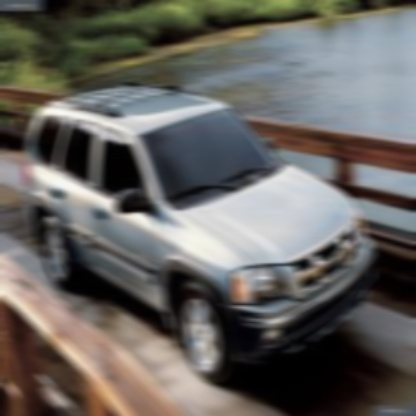Vehicle: (25, 84, 379, 385)
